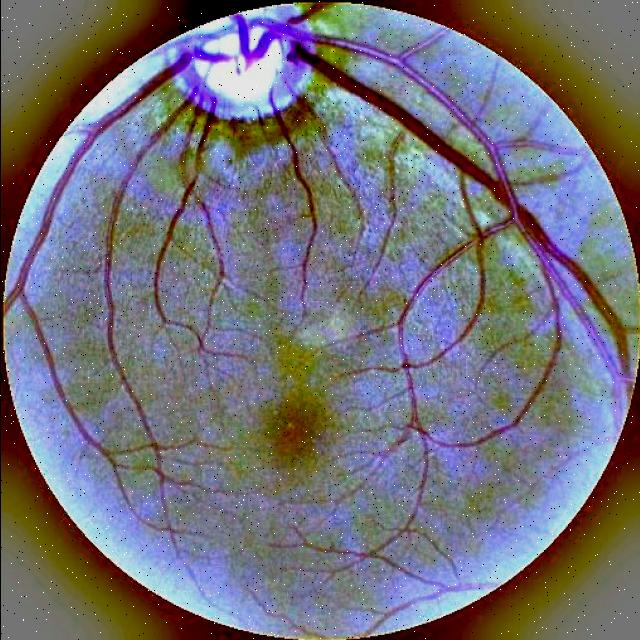Macula: (231, 375, 353, 494)
Nerves: (15, 23, 637, 463), (165, 66, 230, 347)
Optic Disk: (151, 0, 367, 136)
